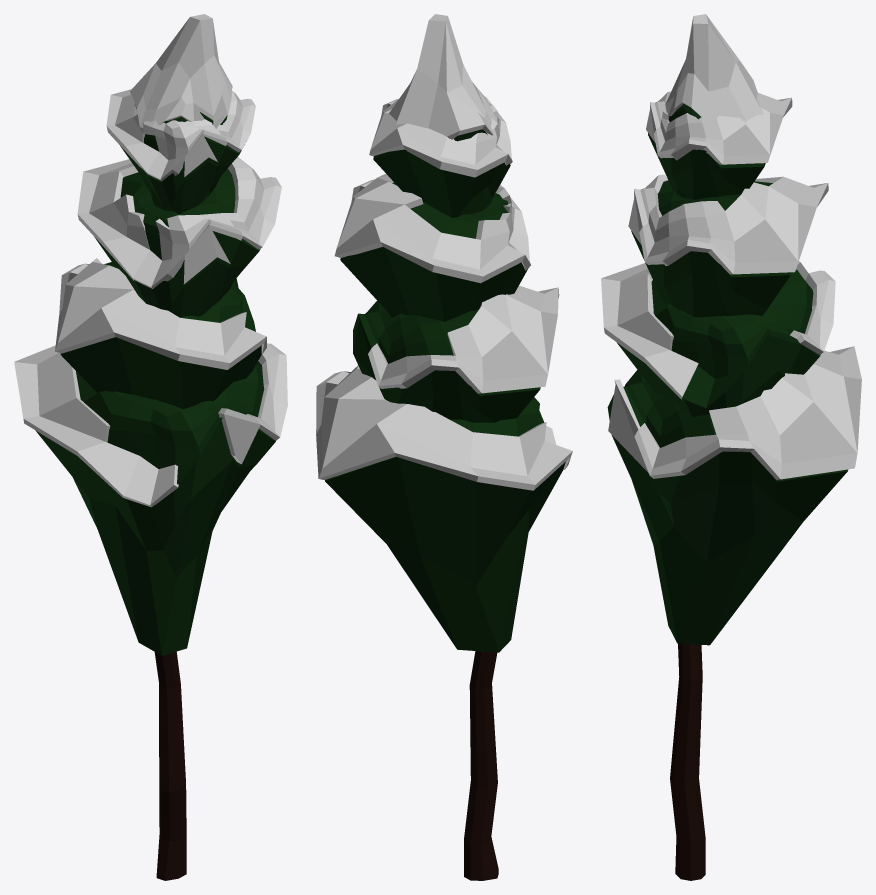
The model's file is ElkSnow.obj.
3 views of the same model, side by side, from view 1: azimuth 30°, elevation 25°; view 2: azimuth 150°, elevation 25°; view 3: azimuth 270°, elevation 25° (orthographic). The views are drawn at different scales.
Parts seen in each view (by area): view 1: Cube.254, Cube.259, Cube.261, Cube.260, Cube.255, Cube.256, Cube.263, Cube.262, Cylinder.130, Cube.257; view 2: Cube.254, Cube.259, Cube.260, Cube.261, Cube.255, Cube.256, Cube.263, Cylinder.130, Cube.262, Cube.257; view 3: Cube.254, Cube.259, Cube.255, Cube.261, Cube.260, Cube.256, Cylinder.130, Cube.262, Cube.263, Cube.257.
Part boxes in pixels (x1,y1,x2,y2): Cube.254: (35, 361, 275, 655); Cube.259: (14, 343, 287, 507); Cube.261: (77, 157, 281, 288); Cube.260: (55, 258, 266, 369); Cube.255: (60, 262, 261, 408); Cube.256: (94, 168, 260, 317); Cube.263: (130, 14, 232, 128); Cube.262: (106, 89, 255, 180); Cylinder.130: (154, 651, 186, 880); Cube.257: (120, 134, 246, 213); Cube.254: (325, 397, 565, 652); Cube.259: (316, 365, 572, 490); Cube.260: (368, 285, 559, 393); Cube.261: (334, 174, 530, 283); Cube.255: (353, 300, 540, 422); Cube.256: (340, 182, 527, 322); Cube.263: (389, 14, 494, 139); Cylinder.130: (464, 651, 498, 880); Cube.262: (369, 97, 512, 177); Cube.257: (373, 149, 510, 217); Cube.254: (607, 370, 848, 645); Cube.259: (608, 346, 861, 479); Cube.255: (617, 269, 820, 417); Cube.261: (628, 174, 828, 274); Cube.260: (601, 261, 835, 399); Cube.256: (631, 180, 791, 317); Cylinder.130: (670, 643, 705, 880); Cube.262: (646, 91, 792, 164); Cube.263: (662, 14, 763, 121); Cube.257: (648, 133, 765, 199).
Bounding box in the file's own units: 14.34 × 49.81 × 13.49.
